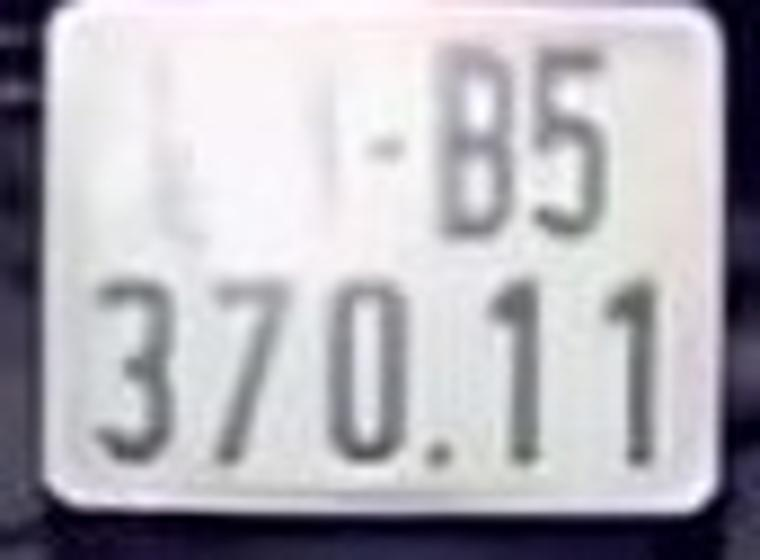0: (323, 273, 411, 464)
1: (590, 268, 674, 476), (474, 274, 555, 470)
3: (87, 266, 173, 475)
5: (528, 29, 614, 240)
7: (205, 270, 297, 465)
B: (424, 38, 520, 242)
